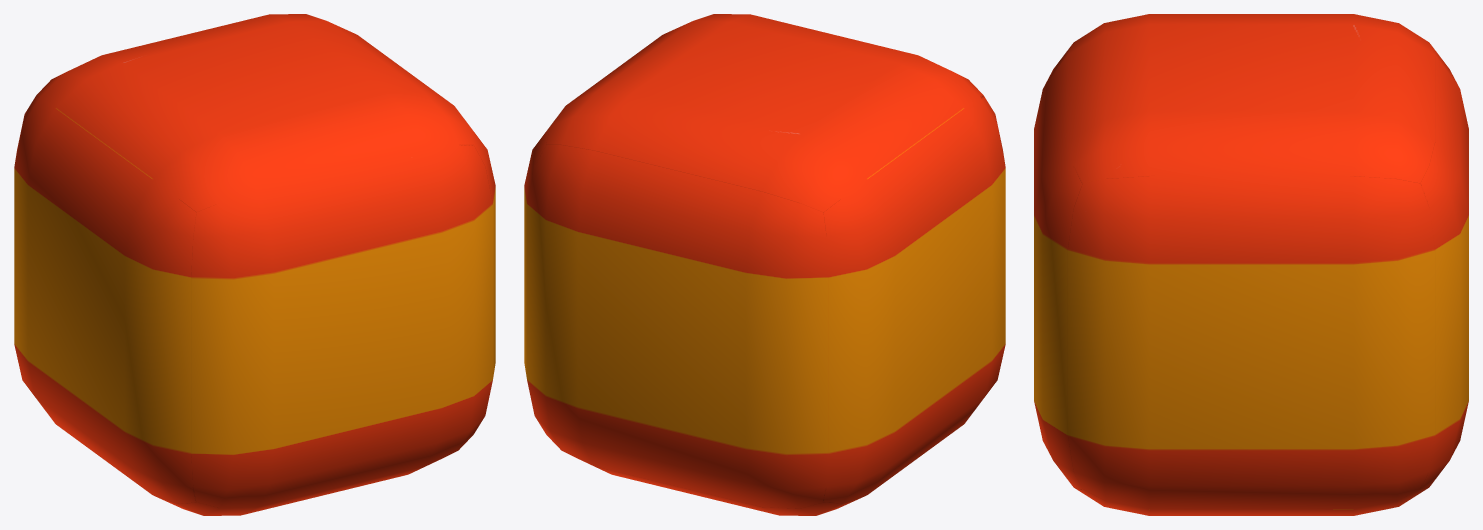
Rendered from BasePlataform.fbx.
The picture shows the model from 3 angles, left to right: view 1: azimuth 30°, elevation 25°; view 2: azimuth 150°, elevation 25°; view 3: azimuth 270°, elevation 25°; orthographic projection. The views are drawn at different scales.
Visible parts, largest first — view 1: BasePlataform; view 2: BasePlataform; view 3: BasePlataform.
Part boxes in pixels (x1=…): BasePlataform: x1=14, y1=14, x2=495, y2=515; BasePlataform: x1=524, y1=14, x2=1005, y2=515; BasePlataform: x1=1034, y1=14, x2=1468, y2=515.
Bounding box in the file's own units: 200 × 200 × 200.
